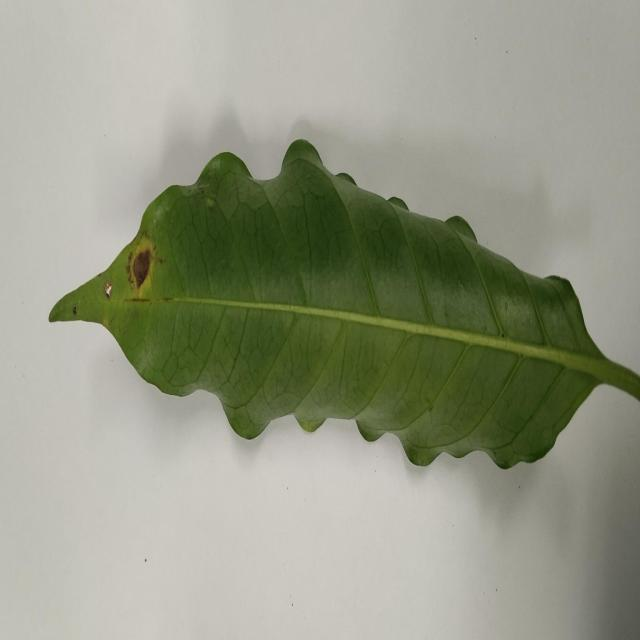Enfermedad-Mancha-de-hierro: (48, 140, 640, 472)
